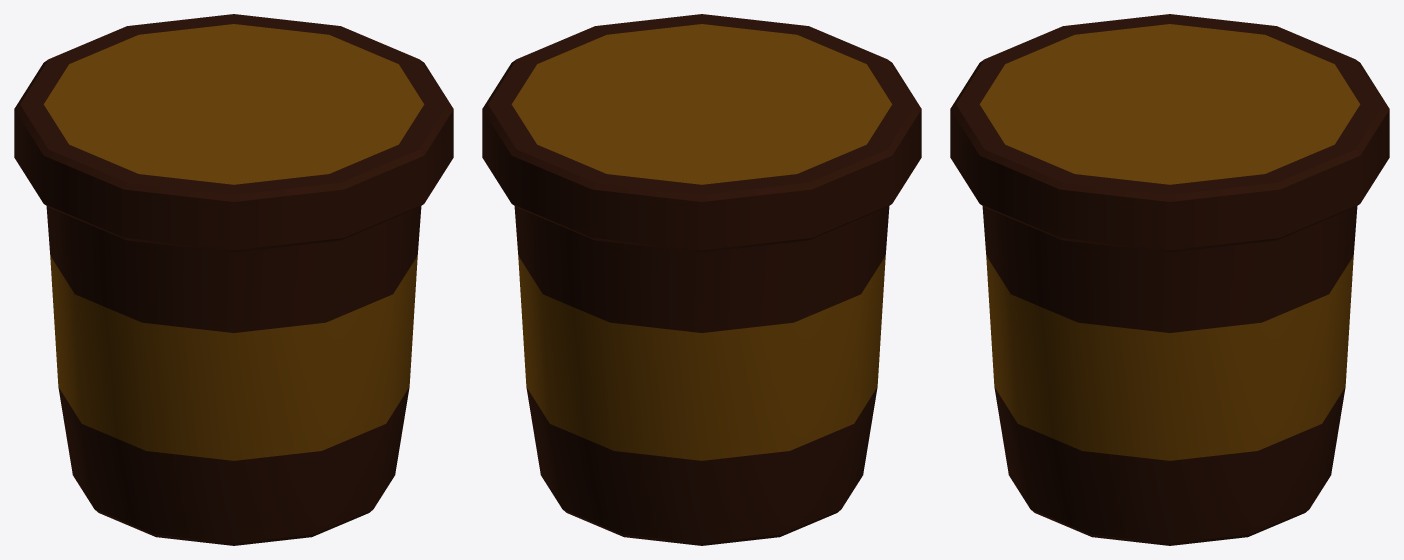
Rendered from Cylindrical_packaging_02.fbx.
The picture shows the model from 3 angles, left to right: view 1: azimuth 30°, elevation 25°; view 2: azimuth 150°, elevation 25°; view 3: azimuth 270°, elevation 25°; orthographic projection.
Parts seen in each view (by area): view 1: Cylindrical_packaging_02; view 2: Cylindrical_packaging_02; view 3: Cylindrical_packaging_02.
Part boxes in pixels (box(x1,y1,x2,y2)): Cylindrical_packaging_02: box(14, 14, 453, 545); Cylindrical_packaging_02: box(482, 14, 921, 545); Cylindrical_packaging_02: box(950, 14, 1389, 545).
Size of the model in its own units: 113 by 113 by 106.
